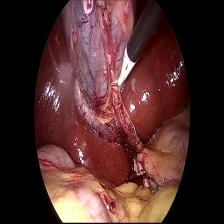Hook: (110, 45, 139, 96)
